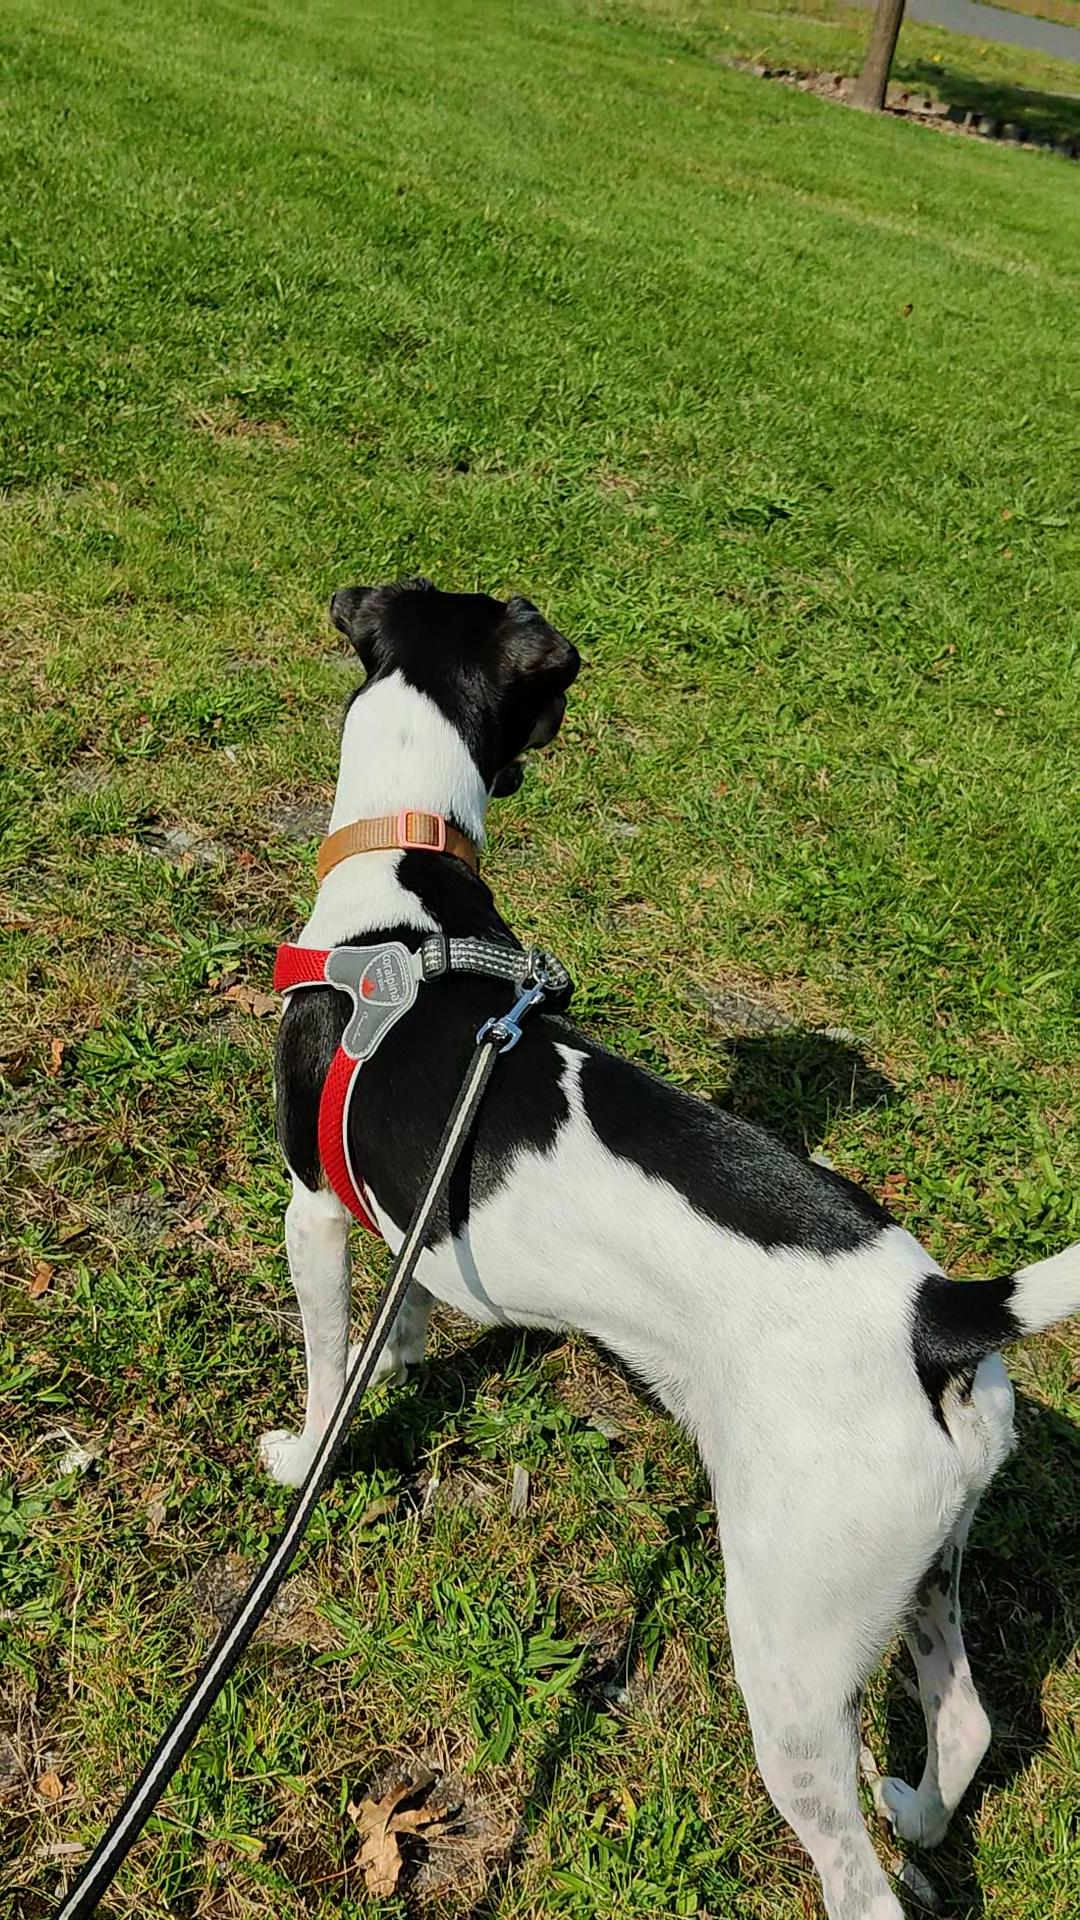Dog: (243, 568, 1079, 1919)
